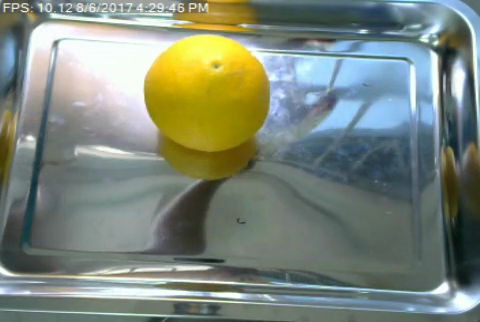Orange: (139, 34, 269, 153)
